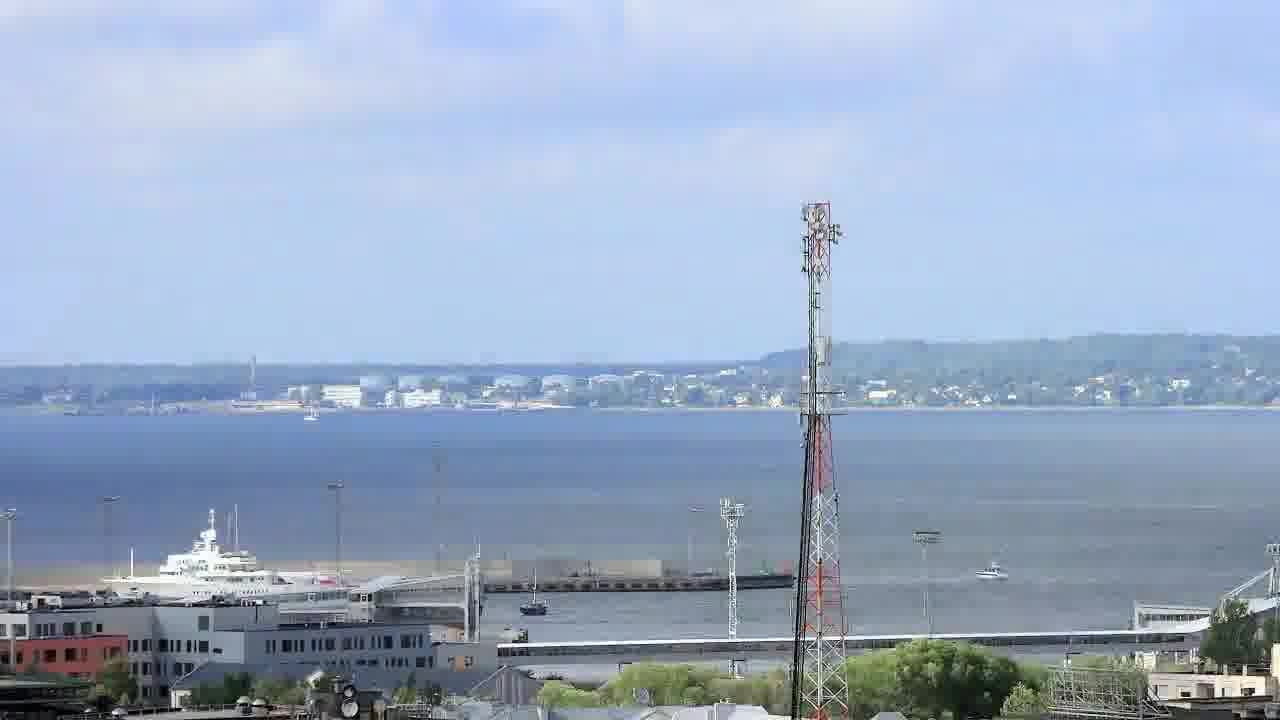type-0: (493, 581, 571, 626), (953, 556, 1024, 597)
type-3: (90, 501, 368, 610)
